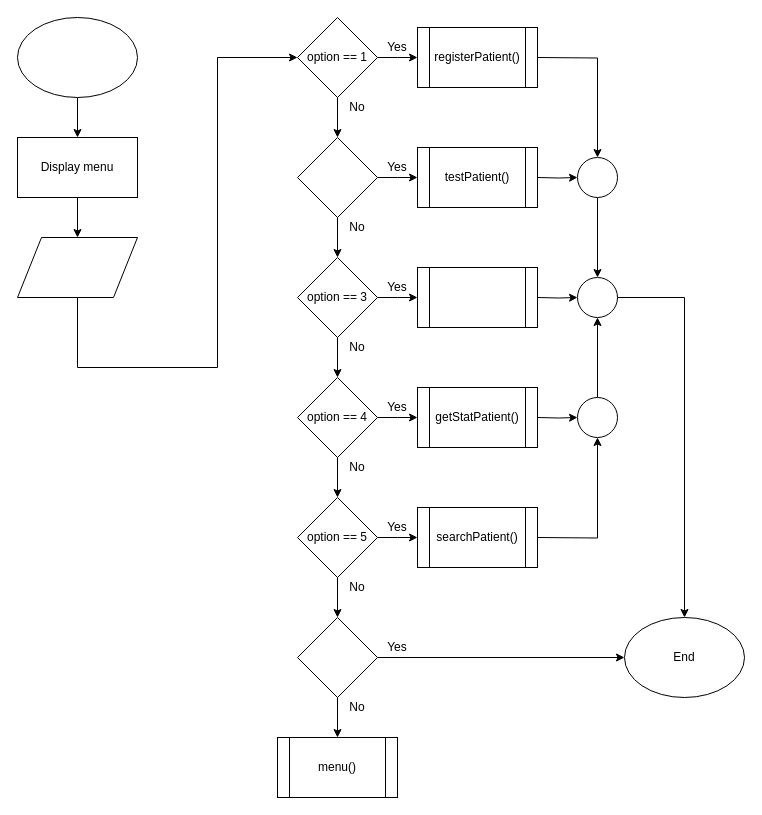
Some shapes in this 762 by 815 pixel diagram are drawn without their labels. The shapes that lost their labels are listed below. From the top down, each one's centre as x and y in pixels, then its label:
At (77,57): "Start".
At (337,177): "option == 2".
At (77,267): "option = input()".
At (477,297): "modifyPatient()".
At (337,657): "option == 6".
